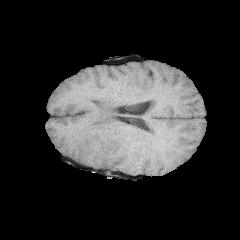glioma: (68, 99, 130, 170)
